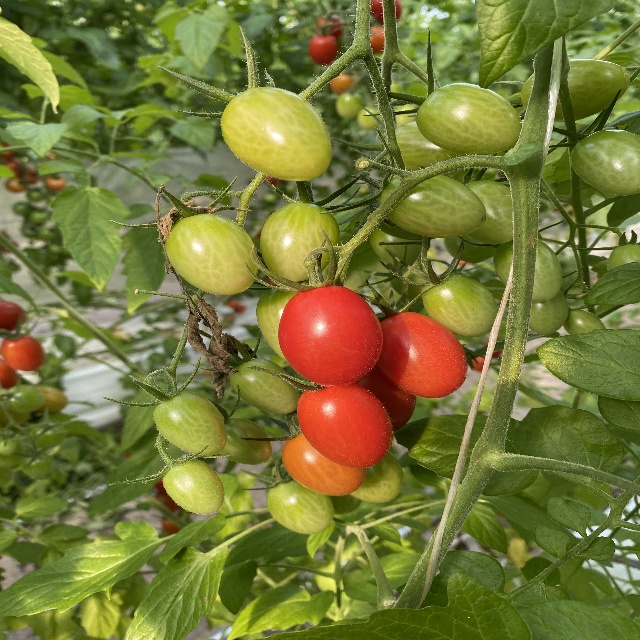l_fully_ripened: (278, 285, 384, 386), (298, 383, 396, 468), (375, 312, 469, 398), (354, 366, 417, 431)
l_green: (221, 86, 333, 181), (164, 213, 260, 295), (415, 83, 522, 154), (378, 170, 487, 238), (519, 58, 633, 123), (259, 200, 340, 283), (384, 119, 477, 176), (568, 128, 640, 197), (421, 274, 499, 337), (154, 391, 227, 457), (255, 282, 316, 359), (492, 237, 563, 302), (227, 358, 300, 414), (266, 478, 335, 535), (162, 456, 226, 515), (369, 217, 430, 274), (463, 180, 513, 246), (350, 449, 405, 503), (219, 417, 273, 465), (530, 288, 569, 337), (443, 234, 497, 263), (564, 309, 606, 334), (606, 244, 640, 271)
l_half_ripened: (282, 433, 367, 496)
